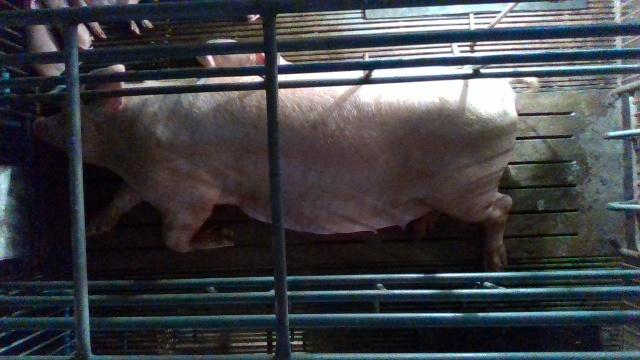piglet: (25, 0, 66, 76), (73, 0, 154, 37), (196, 38, 291, 67), (44, 0, 95, 51)
sow-sleep: (31, 62, 534, 270)
